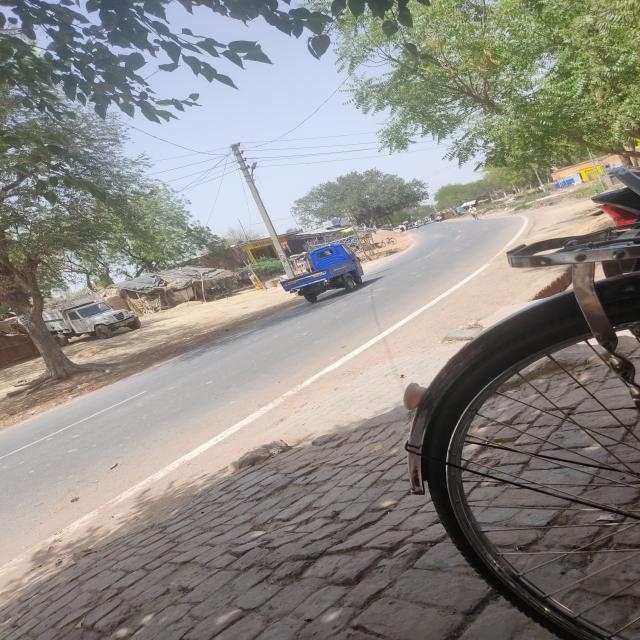auto_back: (277, 236, 369, 306)
